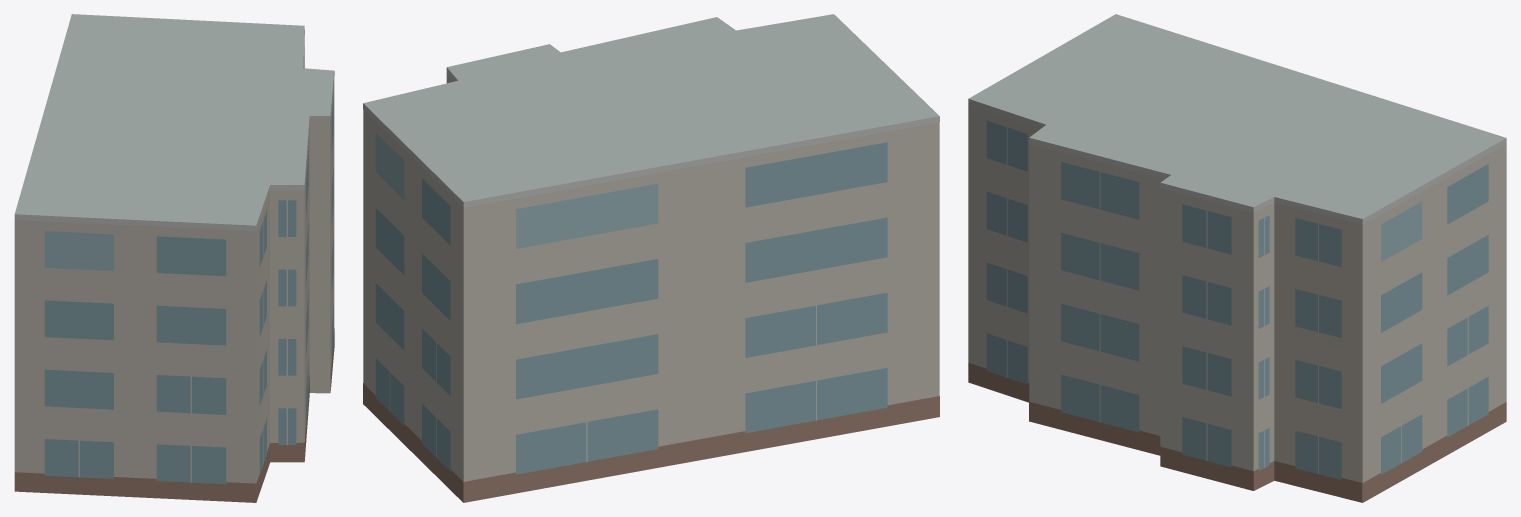
File: survey-upis-32847313.glb
3 renders of one model, left to right at view 1: azimuth 30°, elevation 25°; view 2: azimuth 150°, elevation 25°; view 3: azimuth 270°, elevation 25°, orthographic. The views are drawn at different scales.
Parts seen in each view (by area): view 1: survey-upis-32847313.tmp; view 2: survey-upis-32847313.tmp; view 3: survey-upis-32847313.tmp.
Part boxes in pixels (x1,y1,x2,y2): survey-upis-32847313.tmp: [14, 14, 334, 502]; survey-upis-32847313.tmp: [363, 14, 939, 502]; survey-upis-32847313.tmp: [968, 14, 1506, 502].
Size of the model in its own units: 18.93 by 12.2 by 20.98.
